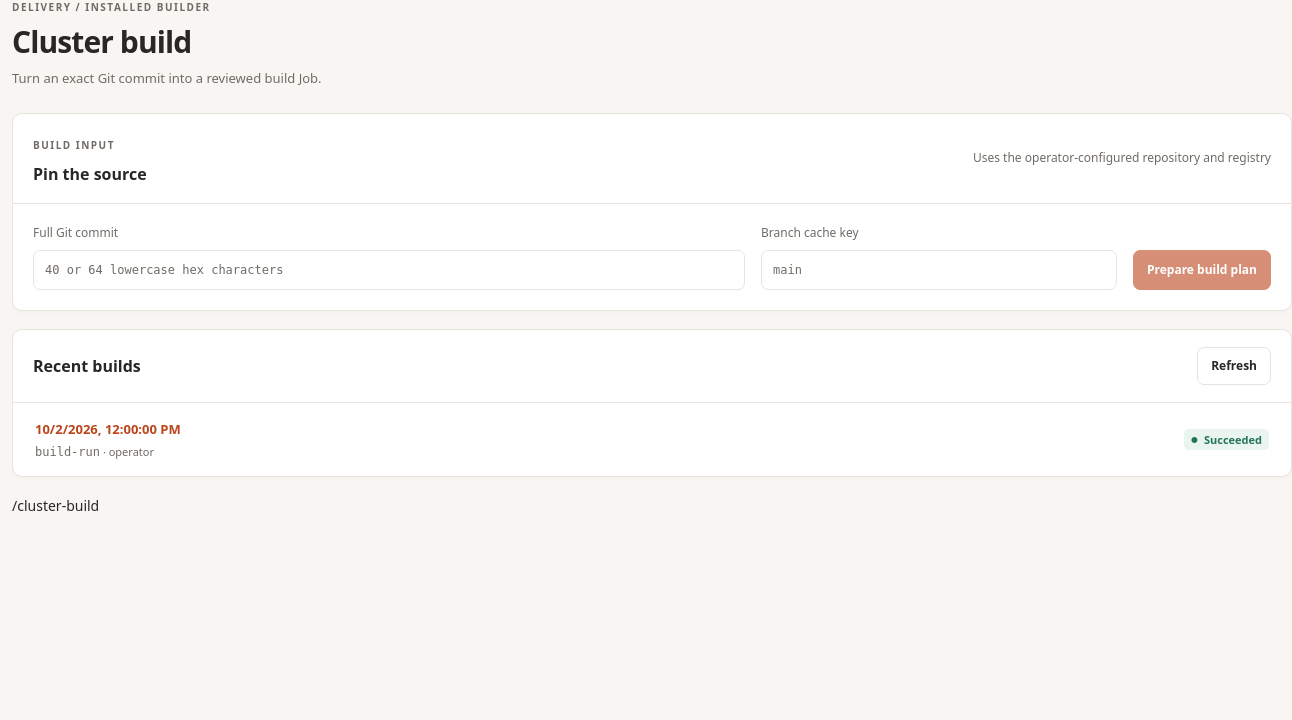
Test: opens a historical build through its durable link without admitting another build
Step 1. Click the link "10/2/2026, 12:00:00 PM" → (108, 429), box [35, 420, 181, 438]
(page scrolled)
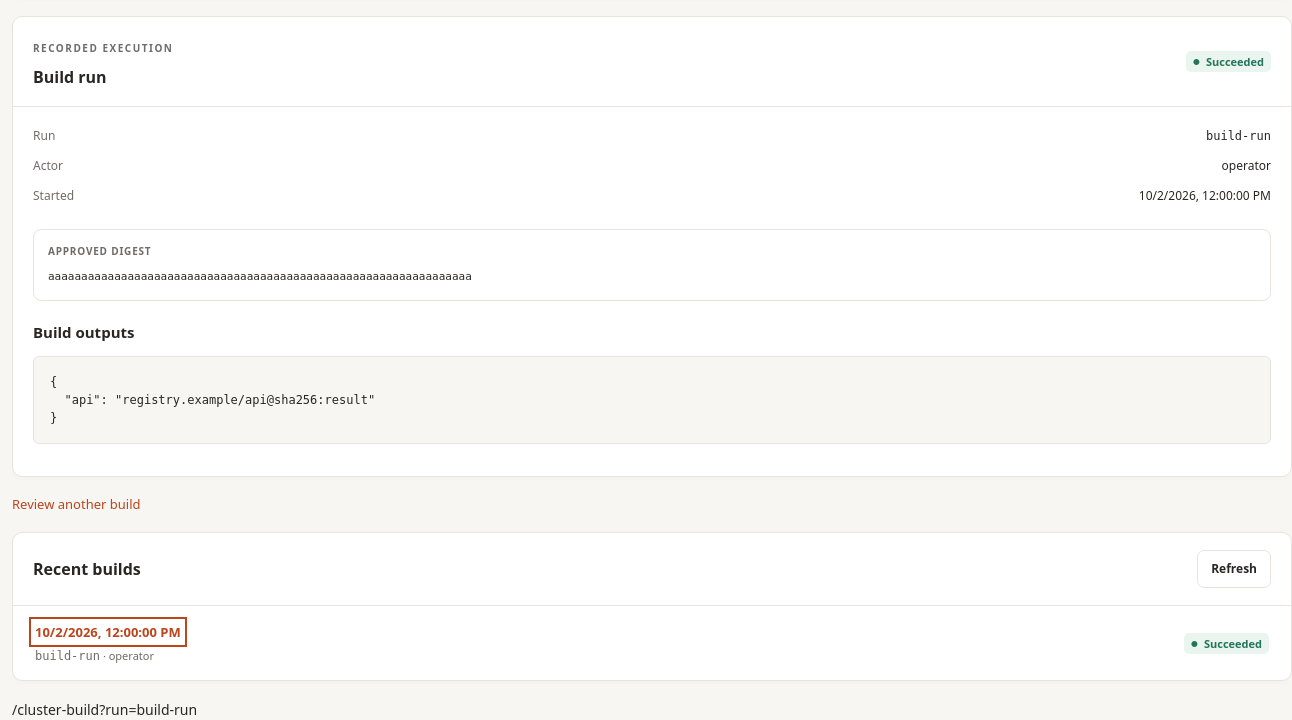
Check: the heading "Build run" is shown, box [33, 66, 107, 88]
Check: the text "{ \"api\": \"registry.example/api@sha256:result\" }" is shown, box [33, 356, 1271, 444]
Check: the text named "Current address" reads "/cluster-build?run=build-run", box [12, 700, 197, 719]
